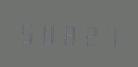eight: (38, 18, 57, 46), (58, 19, 77, 47)
five: (18, 18, 37, 45)
seven: (98, 21, 117, 48)
two: (78, 20, 97, 47)
